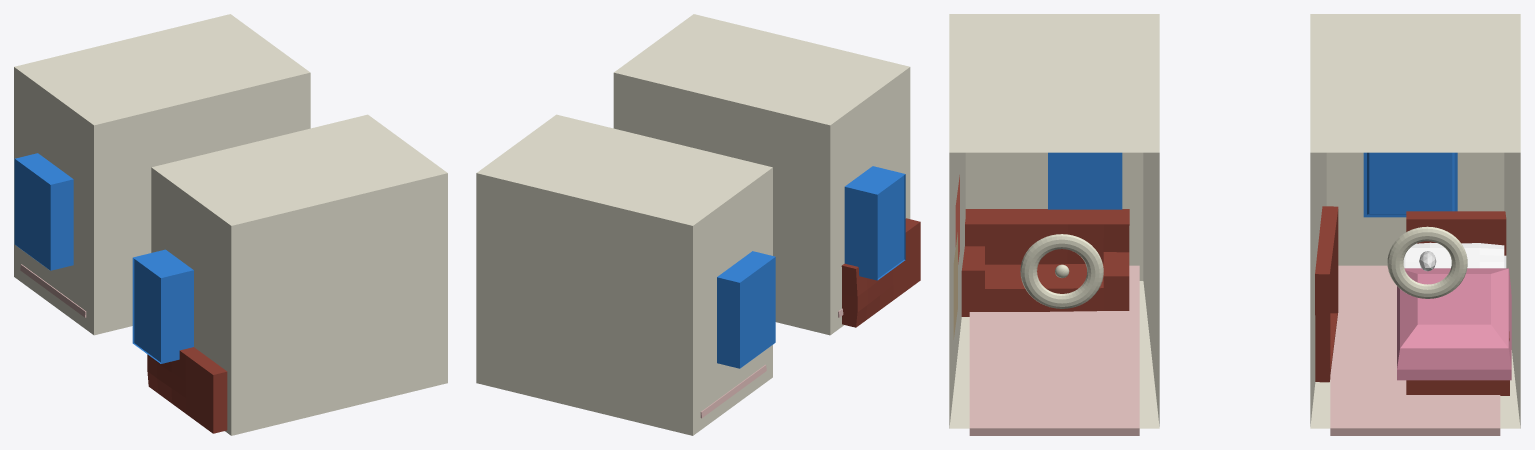
Rendered from magicw.glb.
The picture shows the model from 3 angles, left to right: view 1: azimuth 30°, elevation 25°; view 2: azimuth 150°, elevation 25°; view 3: azimuth 270°, elevation 25°; orthographic projection. The views are drawn at different scales.
Parts seen in each view (by area): view 1: Cube, Cube.007, Cube.002, Cube.005, Cube.001, Cube.004; view 2: Cube.007, Cube, Cube.002, Cube.005, Cube.001, Cube.004; view 3: Cube, Cube.007, Cube.003, Cube.004, Cube.001, Cube.009, Cube.005, Cube.002, Cube.006, Torus, Torus.001, Cube.012 (+2 smaller).
Boxes of the visible parts, x1,y1,x2,y2 form: Cube: (151, 114, 447, 435); Cube.007: (14, 14, 310, 335); Cube.002: (132, 249, 193, 363); Cube.005: (14, 153, 73, 270); Cube.001: (147, 347, 227, 433); Cube.004: (20, 264, 86, 317); Cube.007: (476, 114, 772, 435); Cube: (613, 14, 910, 335); Cube.002: (844, 166, 905, 280); Cube.005: (717, 251, 775, 368); Cube.001: (841, 218, 920, 327); Cube.004: (700, 364, 766, 418); Cube: (949, 14, 1159, 428); Cube.007: (1310, 14, 1520, 428); Cube.003: (969, 265, 1139, 435); Cube.004: (1330, 265, 1500, 435); Cube.001: (961, 209, 1129, 316); Cube.009: (1397, 268, 1511, 380); Cube.005: (1363, 152, 1457, 217); Cube.002: (1048, 152, 1122, 209); Cube.006: (1315, 206, 1338, 382); Torus: (1020, 234, 1103, 308); Torus.001: (1387, 226, 1467, 298); Cube.012: (1406, 211, 1506, 255).
Bounding box in the file's own units: 6.11 × 5.01 × 9.17.
